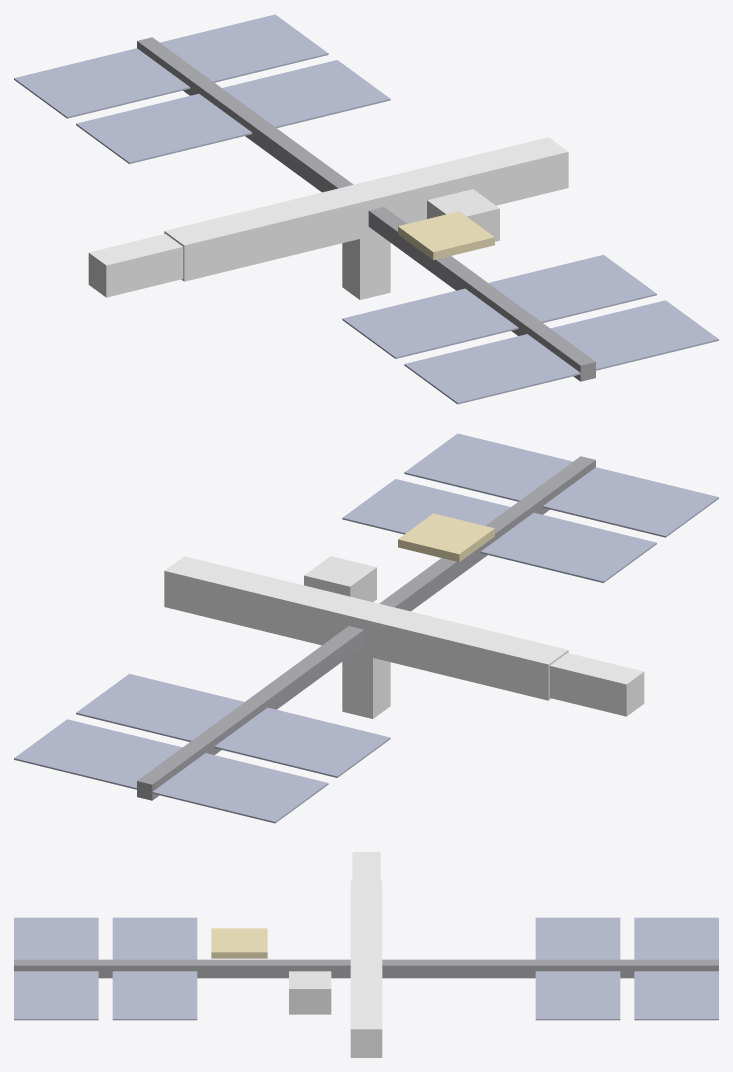
The model's file is station.glb.
The picture shows the model from 3 angles, top to bottom: view 1: azimuth 30°, elevation 25°; view 2: azimuth 150°, elevation 25°; view 3: azimuth 270°, elevation 25°; orthographic projection. The views are drawn at different scales.
Visible parts, largest first — view 1: station; view 2: station; view 3: station.
Boxes of the visible parts, <box> form: station: <box>14,14,718,404</box>; station: <box>14,433,718,823</box>; station: <box>14,852,718,1057</box>.
Bounding box in the file's own units: 60 × 14.5 × 100.
